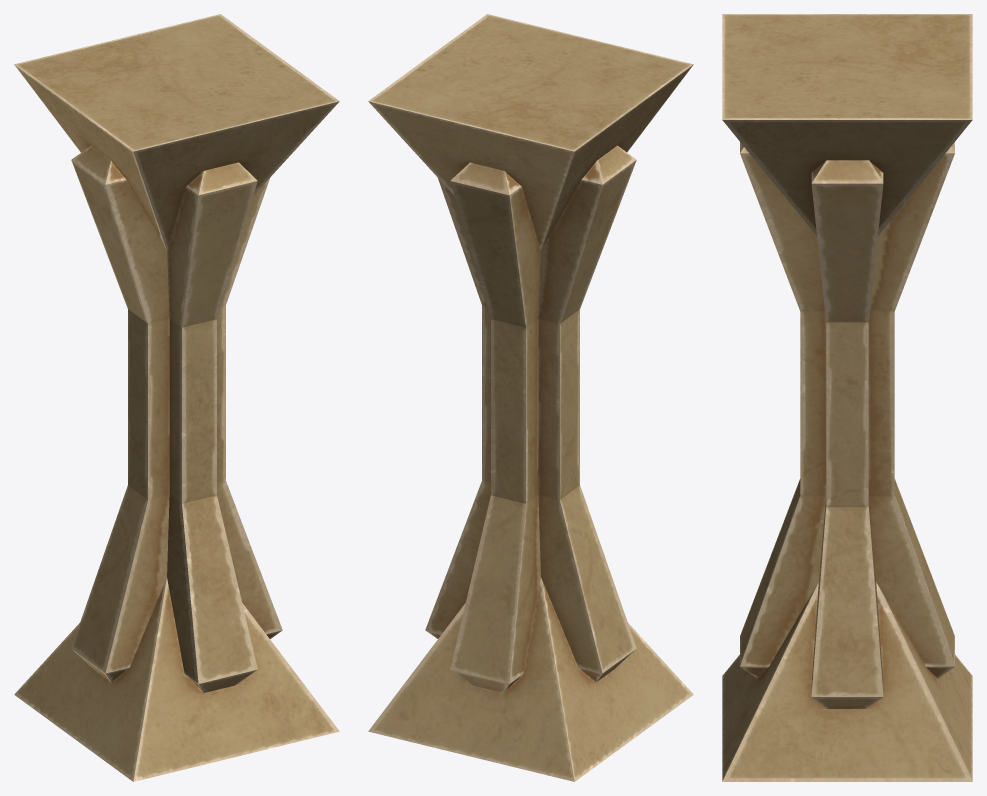
The model's file is Ruin pillar 2.FBX.
3 renders of one model, left to right at view 1: azimuth 30°, elevation 25°; view 2: azimuth 150°, elevation 25°; view 3: azimuth 270°, elevation 25°, orthographic. The views are drawn at different scales.
Visible parts, largest first — view 1: Pyramid003; view 2: Pyramid003; view 3: Pyramid003.
Boxes of the visible parts, left/top/right/bottom form: Pyramid003: left=14, top=14, right=339, bottom=781; Pyramid003: left=368, top=14, right=693, bottom=781; Pyramid003: left=722, top=14, right=972, bottom=781.
Bounding box in the file's own units: 858 × 2500 × 858.
Materials: 1 (1 with a texture image).
